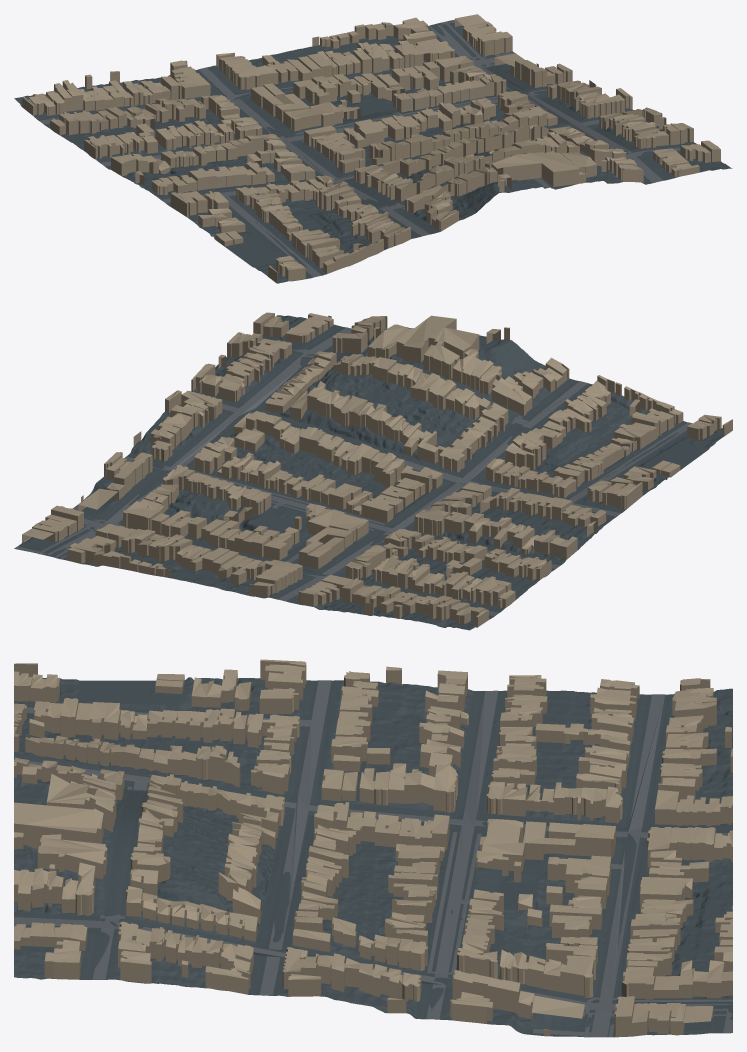
The model's file is epsg26910-1431-10881.lod0.glb.
3 views of the same model, one above another, from view 1: azimuth 30°, elevation 25°; view 2: azimuth 150°, elevation 25°; view 3: azimuth 270°, elevation 25° (orthographic). The views are drawn at different scales.
Visible parts, largest first — view 1: epsg26910-1431-10881-lod0; view 2: epsg26910-1431-10881-lod0; view 3: epsg26910-1431-10881-lod0.
Part boxes in pixels (x1=…): epsg26910-1431-10881-lod0: x1=14, y1=14, x2=732, y2=283; epsg26910-1431-10881-lod0: x1=14, y1=312, x2=732, y2=630; epsg26910-1431-10881-lod0: x1=14, y1=659, x2=732, y2=1037.
Size of the model in its own units: 384 by 71.25 by 384.
